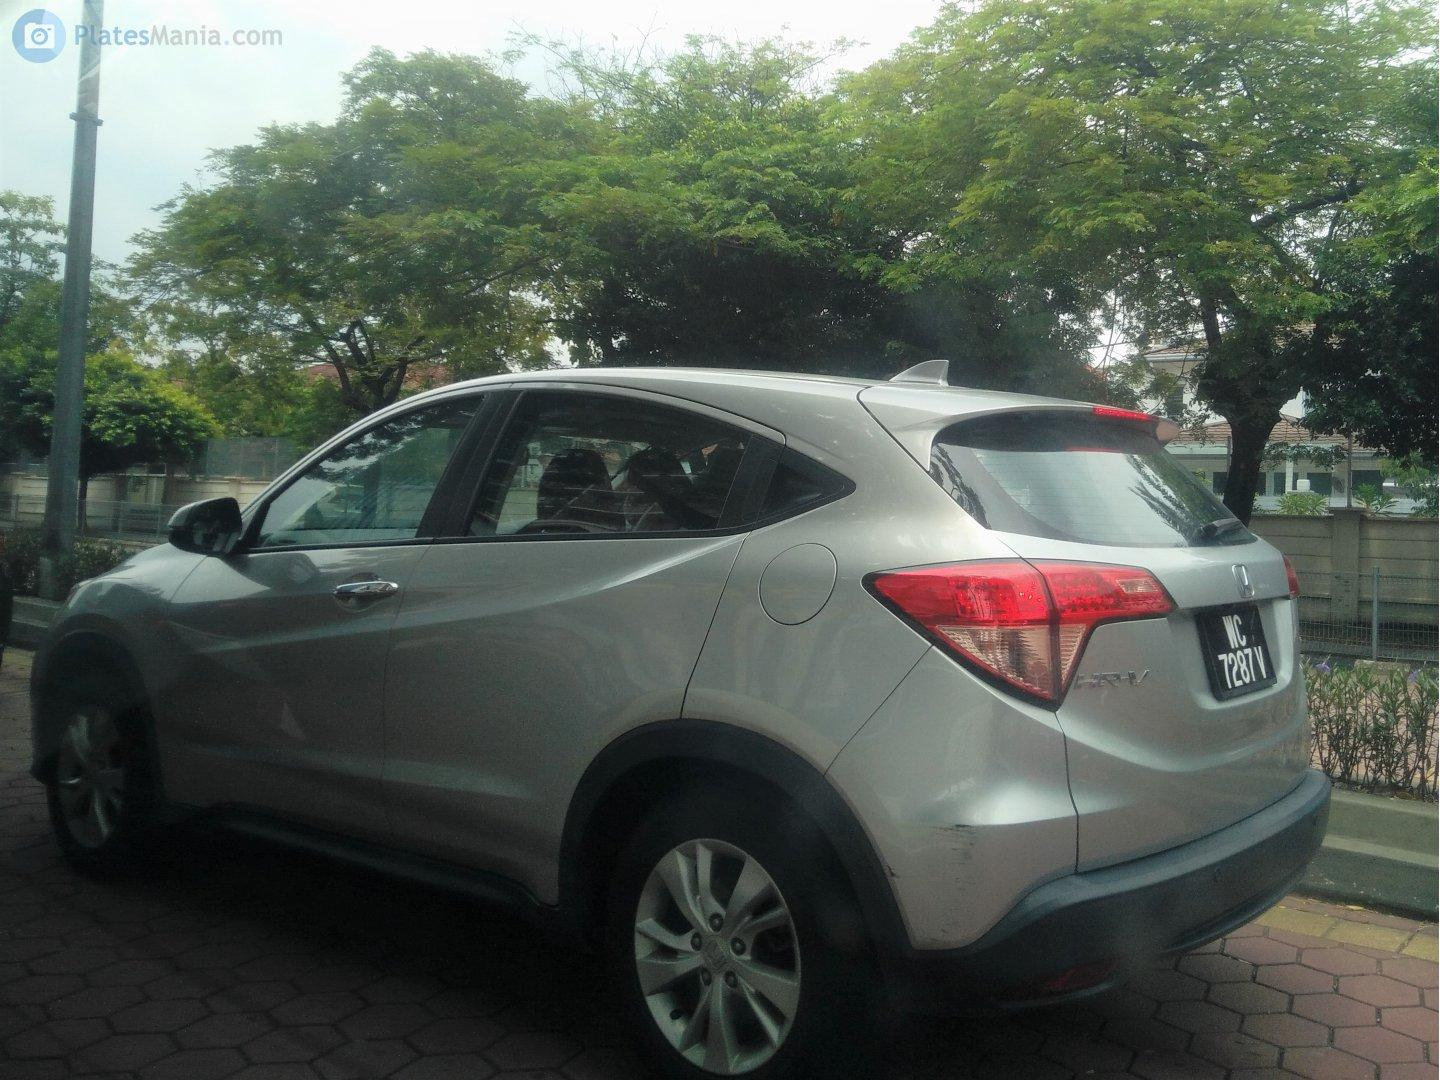License Plate: (1199, 602, 1279, 698)
